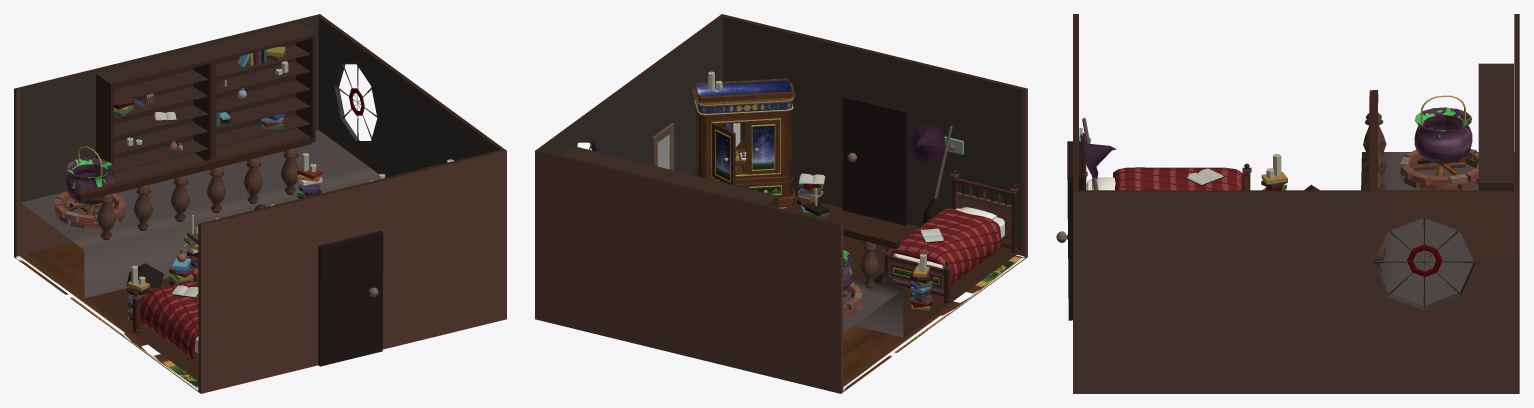
Rendered from WallessRoom.fbx.
3 renders of one model, left to right at view 1: azimuth 30°, elevation 25°; view 2: azimuth 150°, elevation 25°; view 3: azimuth 270°, elevation 25°, orthographic. The views are drawn at different scales.
Visible parts, largest first — view 1: pCube1, kast4, kast3, pCube9, bedEnKetel:polySurface34, bedEnKetel:pCylinder71, pCube2, pCylinder4, pCylinder5, pCylinder3, pCylinder1, pCylinder2 (+4 smaller); view 2: pCube1, kast_gefikst3:kast_gefixt3:polySurface79, bedEnKetel:polySurface34, pCube9, kast4, kast3, heksenhoed:pCone1, pCube70, pCube114, bedEnKetel:pCylinder71, pCylinder1, pCube2 (+1 smaller); view 3: pCube1, bedEnKetel:pCylinder71, bedEnKetel:polySurface34, kast3, kast4, pCube9, pCube2, heksenhoed:pCone1, pTorus1.
Part boxes in pixels (x1,y1,x2,y2): pCube1: [14, 14, 506, 393]; kast4: [96, 48, 213, 183]; kast3: [198, 23, 315, 158]; pCube9: [318, 230, 383, 366]; bedEnKetel:polySurface34: [131, 277, 198, 359]; bedEnKetel:pCylinder71: [55, 146, 125, 228]; pCube2: [77, 135, 311, 201]; pCylinder4: [243, 157, 262, 204]; pCylinder5: [207, 167, 226, 213]; pCylinder3: [170, 176, 189, 221]; pCylinder1: [96, 194, 116, 239]; pCylinder2: [133, 185, 152, 230]; pCube1: [535, 14, 1027, 393]; kast_gefikst3:kast_gefixt3:polySurface79: [692, 78, 795, 209]; bedEnKetel:polySurface34: [883, 170, 1018, 303]; pCube9: [842, 95, 907, 225]; kast4: [664, 171, 778, 207]; kast3: [562, 146, 675, 179]; heksenhoed:pCone1: [910, 124, 944, 163]; pCube70: [652, 123, 674, 170]; pCube114: [910, 265, 932, 310]; bedEnKetel:pCylinder71: [843, 250, 862, 317]; pCylinder1: [860, 241, 879, 288]; pCube2: [843, 226, 899, 249]; pCube1: [1073, 14, 1519, 393]; bedEnKetel:pCylinder71: [1399, 95, 1478, 190]; bedEnKetel:polySurface34: [1079, 133, 1251, 190]; kast3: [1478, 123, 1513, 190]; kast4: [1478, 63, 1513, 123]; pCube9: [1067, 141, 1084, 320]; pCube2: [1369, 90, 1378, 190]; heksenhoed:pCone1: [1080, 134, 1116, 178]; pTorus1: [1407, 244, 1442, 276].
Size of what is drawn, in the model's own units: 5.98 by 3.15 by 6.55.
